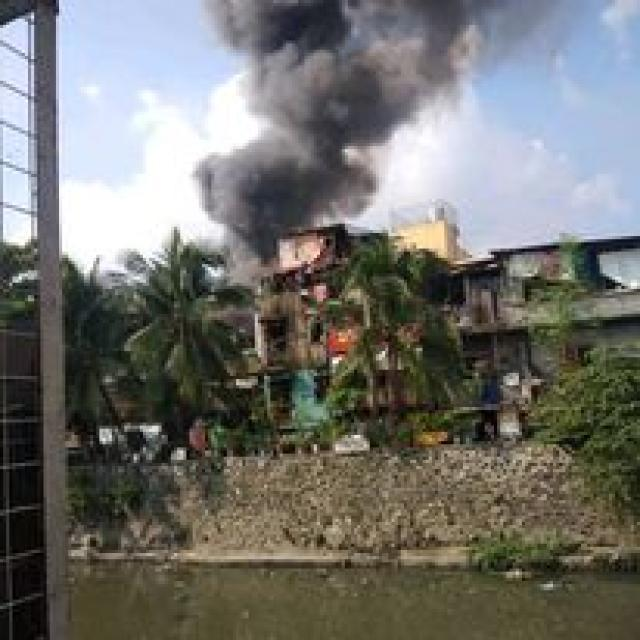Smoke: (217, 0, 478, 103), (208, 137, 372, 228), (248, 92, 366, 148)
